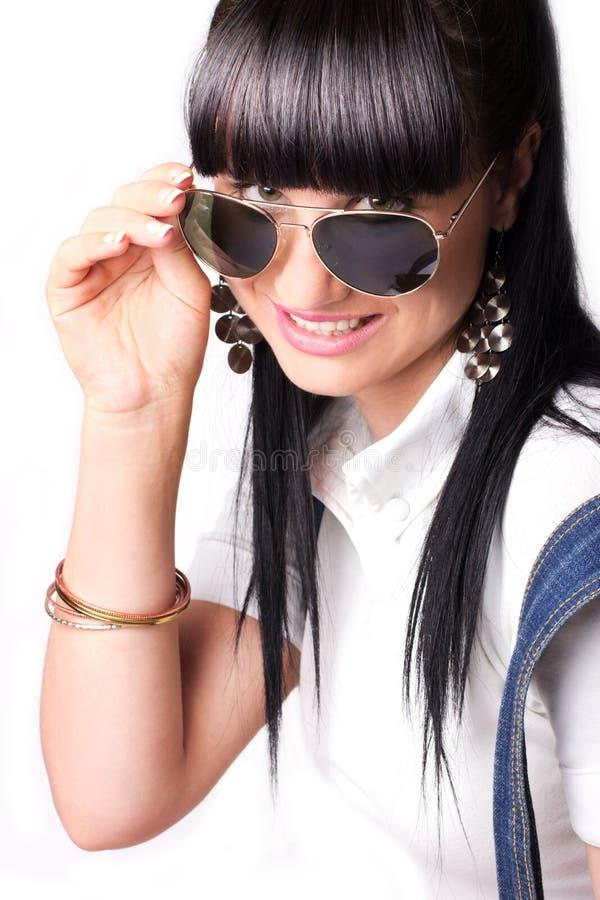mask: (168, 165, 473, 318)
